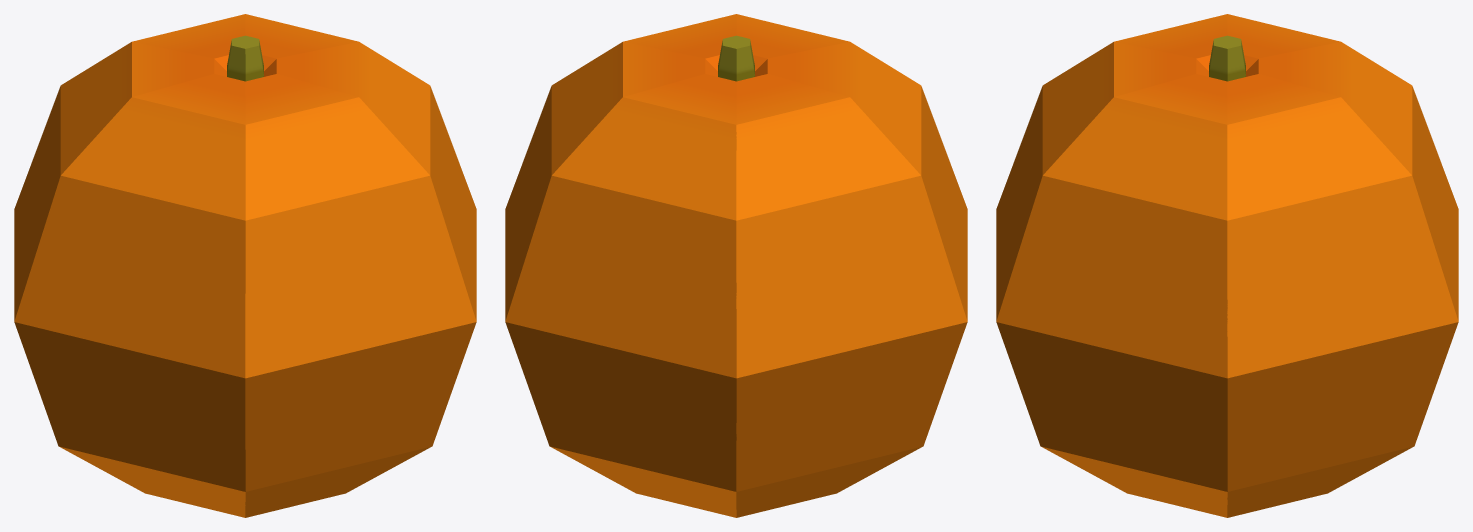
Rendered from Orange.fbx.
3 views of the same model, side by side, from view 1: azimuth 30°, elevation 25°; view 2: azimuth 150°, elevation 25°; view 3: azimuth 270°, elevation 25° (orthographic).
Visible parts, largest first — view 1: Orange_Top, Orange_Down, Orange_All; view 2: Orange_Top, Orange_All, Orange_Down; view 3: Orange_All, Orange_Top, Orange_Down.
Boxes of the visible parts, x1,y1,x2,y2 form: Orange_Top: (14,14,476,378); Orange_Down: (14,322,476,517); Orange_All: (14,35,476,517); Orange_Top: (505,14,967,377); Orange_All: (505,35,908,517); Orange_Down: (648,322,967,503); Orange_All: (996,35,1458,517); Orange_Top: (996,14,1416,378); Orange_Down: (1044,364,1311,517).
Bounding box in the file's own units: 9.33 × 8.46 × 8.08.
